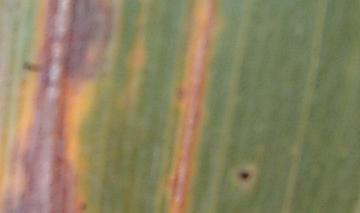tarspot: (21, 60, 41, 74), (239, 170, 251, 180)
